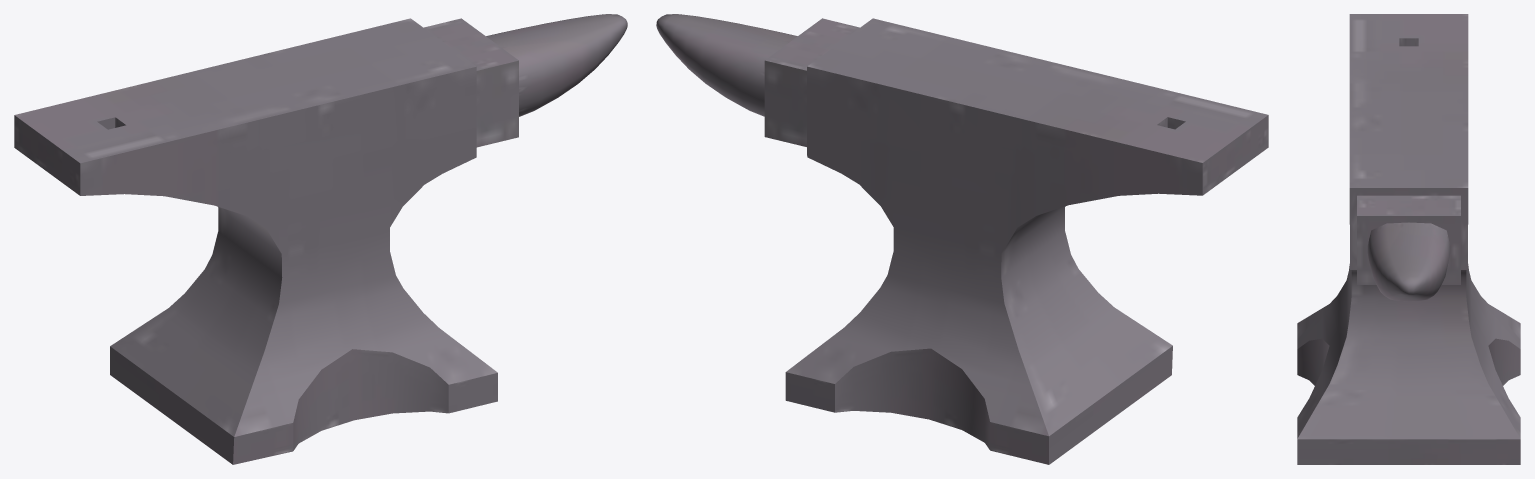
Rendered from Anvil.glb.
3 views of the same model, side by side, from view 1: azimuth 30°, elevation 25°; view 2: azimuth 150°, elevation 25°; view 3: azimuth 270°, elevation 25° (orthographic). The views are drawn at different scales.
Visible parts, largest first — view 1: Anvil; view 2: Anvil; view 3: Anvil.
Part boxes in pixels (x1,y1,x2,y2): Anvil: (14,14,627,464); Anvil: (656,14,1268,464); Anvil: (1297,14,1520,464).
Size of the model in its own units: 1.08 by 0.556 by 0.4015.
Materials: 1 (1 with a texture image).
